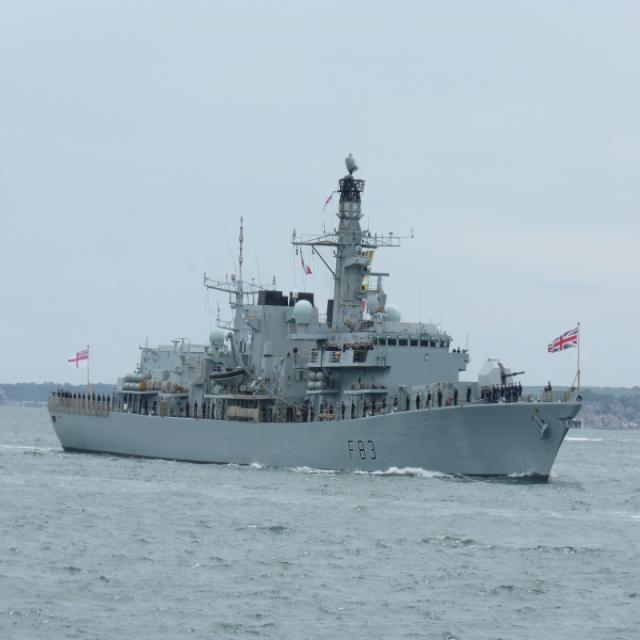Fragata: (48, 153, 591, 487)
